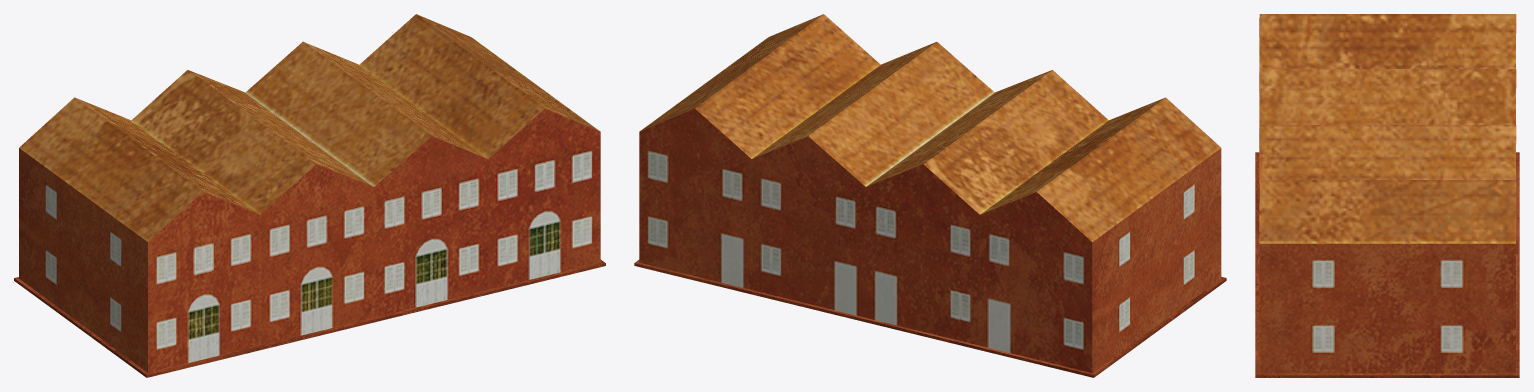
Rendered from House_2_LOD_1.fbx.
3 renders of one model, left to right at view 1: azimuth 30°, elevation 25°; view 2: azimuth 150°, elevation 25°; view 3: azimuth 270°, elevation 25°, orthographic.
Parts seen in each view (by area): view 1: Cube; view 2: Cube; view 3: Cube.
Part boxes in pixels (x1=…): Cube: x1=14, y1=14, x2=605, y2=377; Cube: x1=634, y1=14, x2=1226, y2=377; Cube: x1=1255, y1=14, x2=1519, y2=377.
Bounding box in the file's own units: 2878 × 1021 × 1440.
